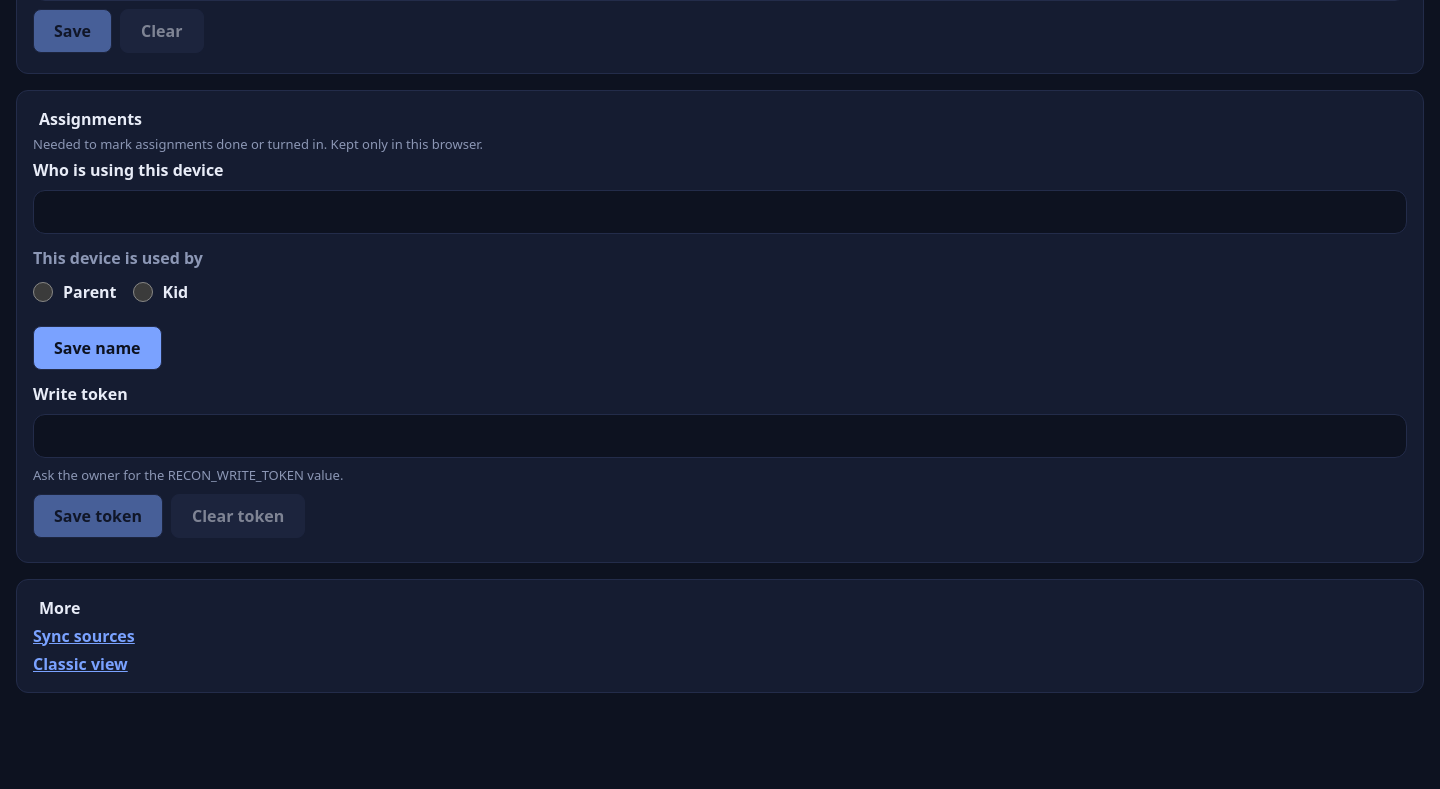
a short token is rejected with the minimum length
This screenshot has width=1440, height=789.
(page scrolled)
In the password field labelled "Write token": x=720, y=436 [33,414,1407,458], type "short"
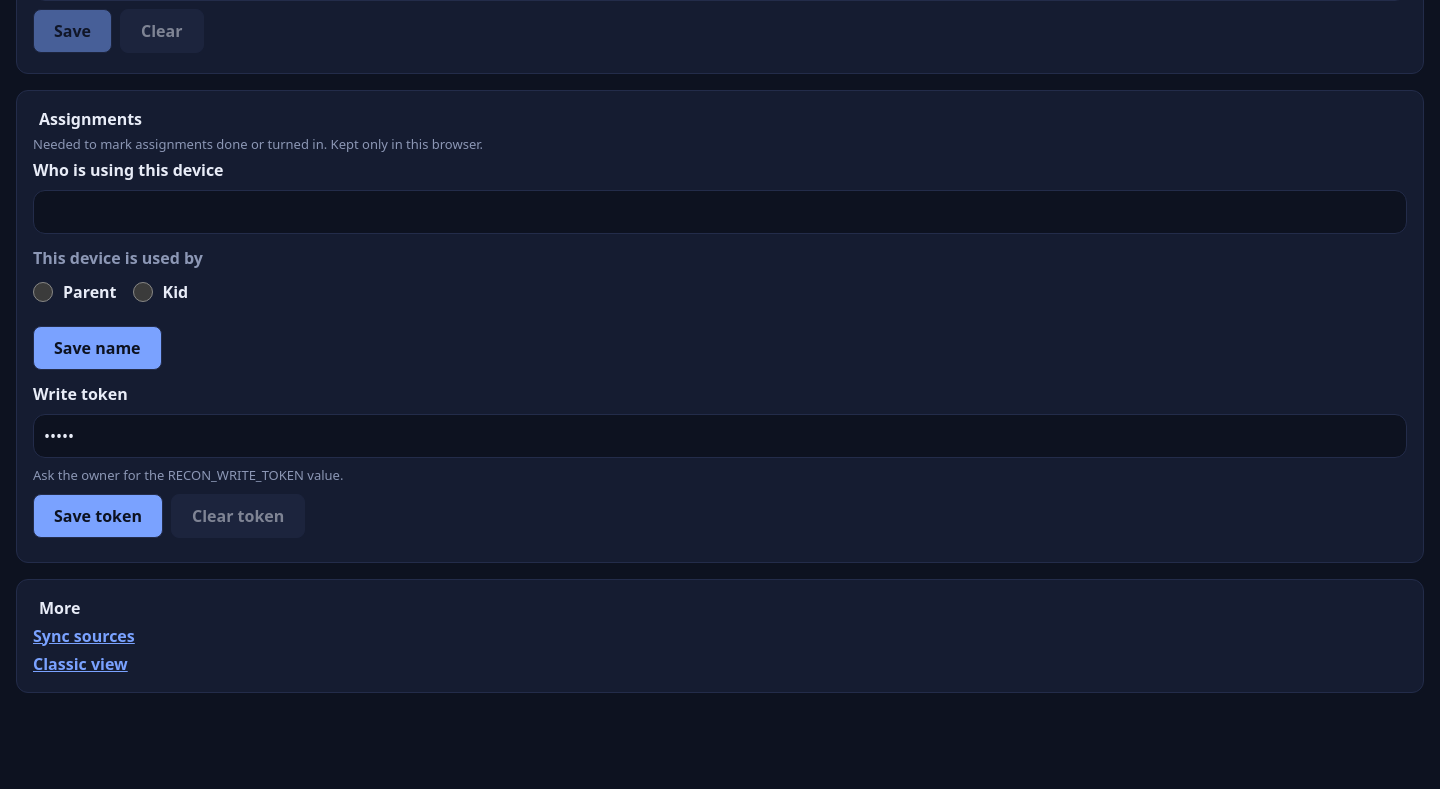
Click the button "Save token": x=98, y=516 [33,494,163,538]
(page scrolled)
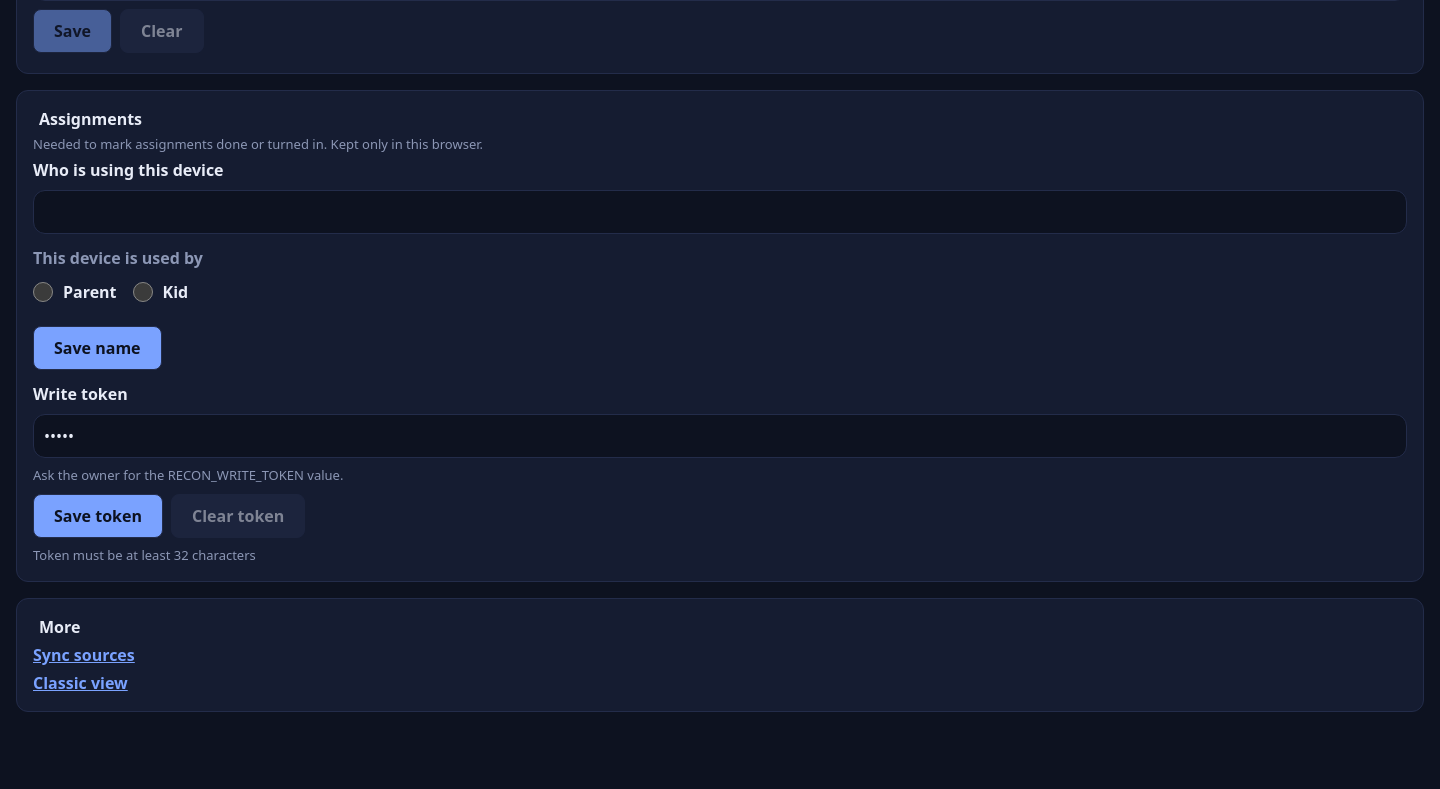
Result: the text "Token must be at least 32 characters" is shown at [33,546,256,564]
